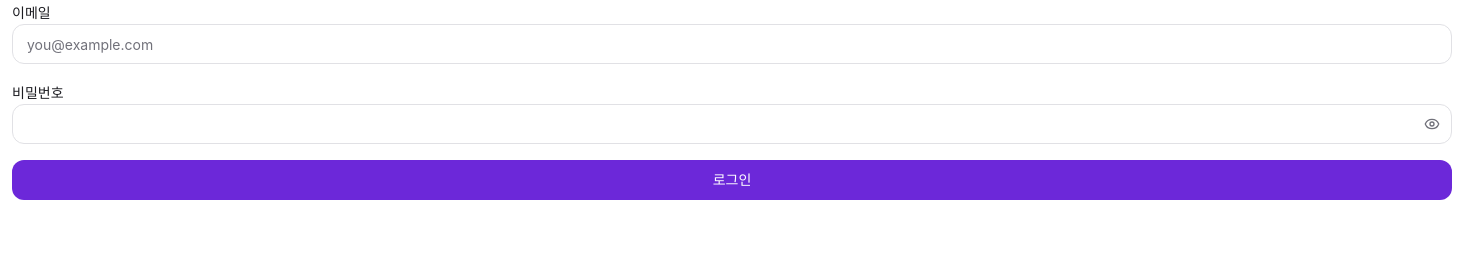
LoginForm › 액션이 에러를 반환하면 alert 로 노출한다
The image size is (1464, 271).
Type "user@example.com" into the field labelled "이메일" at (732, 44), box x1=12 y1=24 x2=1452 y2=64
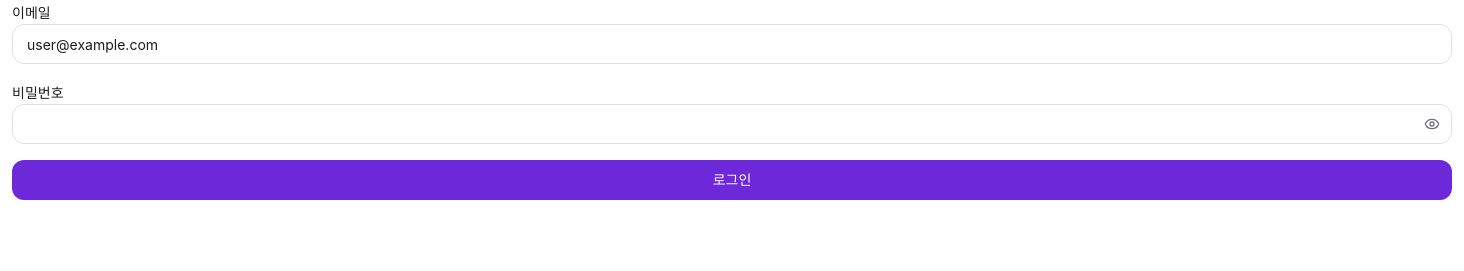
Type "wrongpassword" into the password field labelled "비밀번호" at (732, 124), box x1=12 y1=104 x2=1452 y2=144
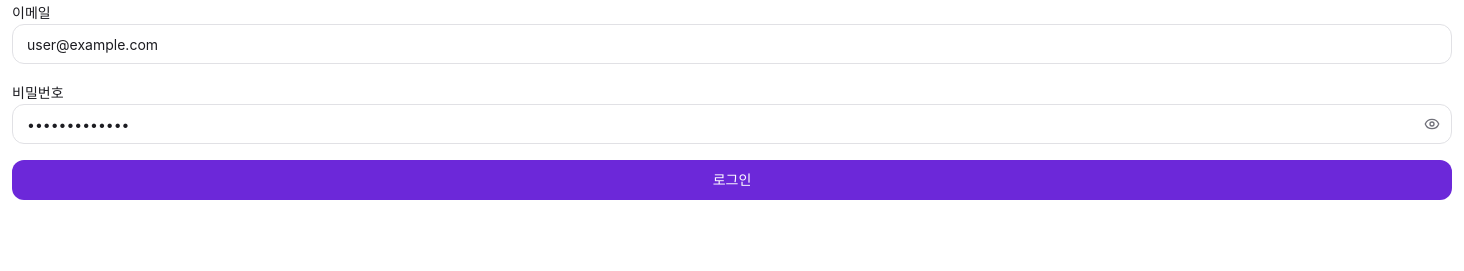
Click the button "로그인" at (732, 180), box x1=12 y1=160 x2=1452 y2=200
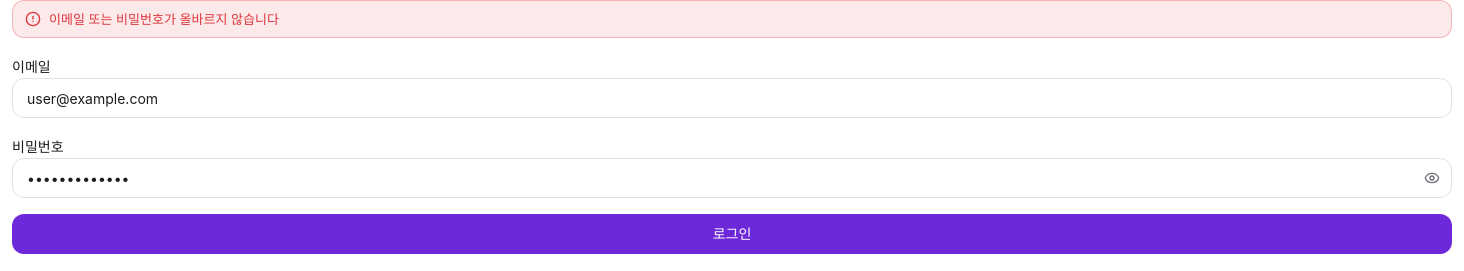
Expected: the message reads "이메일 또는 비밀번호가 올바르지 않습니다", x1=49 y1=11 x2=279 y2=27
